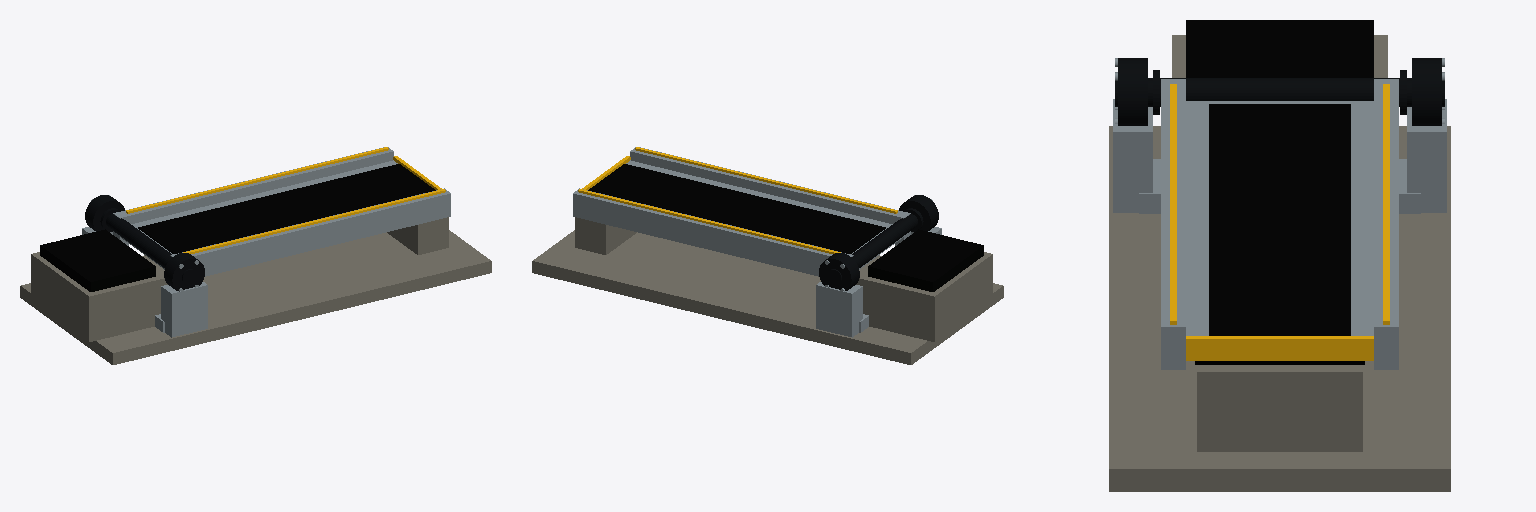
robot.urdf — singleleaf_drawbridge:
<robot name="singleleaf_drawbridge">
  <material name="galvanized_steel">
    <color rgba="0.56 0.6 0.62 1" />
    </material>
  <material name="dark_bearing_steel">
    <color rgba="0.08 0.09 0.1 1" />
    </material>
  <material name="precast_concrete">
    <color rgba="0.5 0.49 0.45 1" />
    </material>
  <material name="asphalt_wearing_surface">
    <color rgba="0.035 0.037 0.035 1" />
    </material>
  <material name="safety_yellow">
    <color rgba="0.95 0.72 0.08 1" />
    </material>
  <material name="black_rubber">
    <color rgba="0.015 0.014 0.013 1" />
    </material>
  <link name="support_frame">
    <visual name="base_slab">
      <origin xyz="1.7 0 0.09" rpy="0 0 0" />
      <geometry>
        <box size="5.8 2.45 0.18" />
        </geometry>
      <material name="precast_concrete">
        <color rgba="0.5 0.49 0.45 1" />
        </material>
      </visual>
    <visual name="shore_abutment">
      <origin xyz="-0.7 0 0.515" rpy="0 0 0" />
      <geometry>
        <box size="1.2 1.55 0.67" />
        </geometry>
      <material name="precast_concrete">
        <color rgba="0.5 0.49 0.45 1" />
        </material>
      </visual>
    <visual name="fixed_approach">
      <origin xyz="-0.72 0 0.92" rpy="0 0 0" />
      <geometry>
        <box size="1 1.34 0.16" />
        </geometry>
      <material name="asphalt_wearing_surface">
        <color rgba="0.035 0.037 0.035 1" />
        </material>
      </visual>
    <visual name="receiving_abutment">
      <origin xyz="4.08 0 0.495" rpy="0 0 0" />
      <geometry>
        <box size="0.48 1.18 0.63" />
        </geometry>
      <material name="precast_concrete">
        <color rgba="0.5 0.49 0.45 1" />
        </material>
      </visual>
    <visual name="rest_pad">
      <origin xyz="4.03 0 0.825" rpy="0 0 0" />
      <geometry>
        <box size="0.34 1.22 0.03" />
        </geometry>
      <material name="black_rubber">
        <color rgba="0.015 0.014 0.013 1" />
        </material>
      </visual>
    <visual name="bearing_cross_tie">
      <origin xyz="0 0 0.26" rpy="0 0 0" />
      <geometry>
        <box size="0.6 2.02 0.16" />
        </geometry>
      <material name="galvanized_steel">
        <color rgba="0.56 0.6 0.62 1" />
        </material>
      </visual>
    <visual name="bearing_pedestal_0">
      <origin xyz="0 1.05 0.5" rpy="0 0 0" />
      <geometry>
        <box size="0.56 0.28 0.64" />
        </geometry>
      <material name="galvanized_steel">
        <color rgba="0.56 0.6 0.62 1" />
        </material>
      </visual>
    <visual name="bearing_ring_0">
      <origin xyz="0 1.05 1" rpy="1.5708 0 0" />
      <geometry>
        <mesh filename="assets/meshes/hollow_side_bearing_ring.obj" />
        </geometry>
      <material name="dark_bearing_steel">
        <color rgba="0.08 0.09 0.1 1" />
        </material>
      </visual>
    <visual name="cap_bolt_0_n_b">
      <origin xyz="-0.12 1.17 0.82" rpy="1.5708 0 0" />
      <geometry>
        <cylinder radius="0.032" length="0.02" />
        </geometry>
      <material name="galvanized_steel">
        <color rgba="0.56 0.6 0.62 1" />
        </material>
      </visual>
    <visual name="cap_bolt_0_n_t">
      <origin xyz="-0.12 1.17 1.18" rpy="1.5708 0 0" />
      <geometry>
        <cylinder radius="0.032" length="0.02" />
        </geometry>
      <material name="galvanized_steel">
        <color rgba="0.56 0.6 0.62 1" />
        </material>
      </visual>
    <visual name="cap_bolt_0_p_b">
      <origin xyz="0.12 1.17 0.82" rpy="1.5708 0 0" />
      <geometry>
        <cylinder radius="0.032" length="0.02" />
        </geometry>
      <material name="galvanized_steel">
        <color rgba="0.56 0.6 0.62 1" />
        </material>
      </visual>
    <visual name="cap_bolt_0_p_t">
      <origin xyz="0.12 1.17 1.18" rpy="1.5708 0 0" />
      <geometry>
        <cylinder radius="0.032" length="0.02" />
        </geometry>
      <material name="galvanized_steel">
        <color rgba="0.56 0.6 0.62 1" />
        </material>
      </visual>
    <visual name="bearing_pedestal_1">
      <origin xyz="0 -1.05 0.5" rpy="0 0 0" />
      <geometry>
        <box size="0.56 0.28 0.64" />
        </geometry>
      <material name="galvanized_steel">
        <color rgba="0.56 0.6 0.62 1" />
        </material>
      </visual>
    <visual name="bearing_ring_1">
      <origin xyz="0 -1.05 1" rpy="1.5708 0 0" />
      <geometry>
        <mesh filename="assets/meshes/hollow_side_bearing_ring.obj" />
        </geometry>
      <material name="dark_bearing_steel">
        <color rgba="0.08 0.09 0.1 1" />
        </material>
      </visual>
    <visual name="cap_bolt_1_n_b">
      <origin xyz="-0.12 -1.17 0.82" rpy="1.5708 0 0" />
      <geometry>
        <cylinder radius="0.032" length="0.02" />
        </geometry>
      <material name="galvanized_steel">
        <color rgba="0.56 0.6 0.62 1" />
        </material>
      </visual>
    <visual name="cap_bolt_1_n_t">
      <origin xyz="-0.12 -1.17 1.18" rpy="1.5708 0 0" />
      <geometry>
        <cylinder radius="0.032" length="0.02" />
        </geometry>
      <material name="galvanized_steel">
        <color rgba="0.56 0.6 0.62 1" />
        </material>
      </visual>
    <visual name="cap_bolt_1_p_b">
      <origin xyz="0.12 -1.17 0.82" rpy="1.5708 0 0" />
      <geometry>
        <cylinder radius="0.032" length="0.02" />
        </geometry>
      <material name="galvanized_steel">
        <color rgba="0.56 0.6 0.62 1" />
        </material>
      </visual>
    <visual name="cap_bolt_1_p_t">
      <origin xyz="0.12 -1.17 1.18" rpy="1.5708 0 0" />
      <geometry>
        <cylinder radius="0.032" length="0.02" />
        </geometry>
      <material name="galvanized_steel">
        <color rgba="0.56 0.6 0.62 1" />
        </material>
      </visual>
    <collision name="base_slab">
      <origin xyz="1.7 0 0.09" rpy="0 0 0" />
      <geometry>
        <box size="5.8 2.45 0.18" />
        </geometry>
      </collision>
    <collision name="shore_abutment">
      <origin xyz="-0.7 0 0.515" rpy="0 0 0" />
      <geometry>
        <box size="1.2 1.55 0.67" />
        </geometry>
      </collision>
    <collision name="fixed_approach">
      <origin xyz="-0.72 0 0.92" rpy="0 0 0" />
      <geometry>
        <box size="1 1.34 0.16" />
        </geometry>
      </collision>
    <collision name="receiving_abutment">
      <origin xyz="4.08 0 0.495" rpy="0 0 0" />
      <geometry>
        <box size="0.48 1.18 0.63" />
        </geometry>
      </collision>
    <collision name="rest_pad">
      <origin xyz="4.03 0 0.825" rpy="0 0 0" />
      <geometry>
        <box size="0.34 1.22 0.03" />
        </geometry>
      </collision>
    <collision name="bearing_cross_tie">
      <origin xyz="0 0 0.26" rpy="0 0 0" />
      <geometry>
        <box size="0.6 2.02 0.16" />
        </geometry>
      </collision>
    <collision name="bearing_pedestal_0">
      <origin xyz="0 1.05 0.5" rpy="0 0 0" />
      <geometry>
        <box size="0.56 0.28 0.64" />
        </geometry>
      </collision>
    <collision name="bearing_ring_0">
      <origin xyz="0 1.05 1" rpy="1.5708 0 0" />
      <geometry>
        <mesh filename="assets/meshes/hollow_side_bearing_ring.obj" />
        </geometry>
      </collision>
    <collision name="cap_bolt_0_n_b">
      <origin xyz="-0.12 1.17 0.82" rpy="1.5708 0 0" />
      <geometry>
        <cylinder radius="0.032" length="0.02" />
        </geometry>
      </collision>
    <collision name="cap_bolt_0_n_t">
      <origin xyz="-0.12 1.17 1.18" rpy="1.5708 0 0" />
      <geometry>
        <cylinder radius="0.032" length="0.02" />
        </geometry>
      </collision>
    <collision name="cap_bolt_0_p_b">
      <origin xyz="0.12 1.17 0.82" rpy="1.5708 0 0" />
      <geometry>
        <cylinder radius="0.032" length="0.02" />
        </geometry>
      </collision>
    <collision name="cap_bolt_0_p_t">
      <origin xyz="0.12 1.17 1.18" rpy="1.5708 0 0" />
      <geometry>
        <cylinder radius="0.032" length="0.02" />
        </geometry>
      </collision>
    <collision name="bearing_pedestal_1">
      <origin xyz="0 -1.05 0.5" rpy="0 0 0" />
      <geometry>
        <box size="0.56 0.28 0.64" />
        </geometry>
      </collision>
    <collision name="bearing_ring_1">
      <origin xyz="0 -1.05 1" rpy="1.5708 0 0" />
      <geometry>
        <mesh filename="assets/meshes/hollow_side_bearing_ring.obj" />
        </geometry>
      </collision>
    <collision name="cap_bolt_1_n_b">
      <origin xyz="-0.12 -1.17 0.82" rpy="1.5708 0 0" />
      <geometry>
        <cylinder radius="0.032" length="0.02" />
        </geometry>
      </collision>
    <collision name="cap_bolt_1_n_t">
      <origin xyz="-0.12 -1.17 1.18" rpy="1.5708 0 0" />
      <geometry>
        <cylinder radius="0.032" length="0.02" />
        </geometry>
      </collision>
    <collision name="cap_bolt_1_p_b">
      <origin xyz="0.12 -1.17 0.82" rpy="1.5708 0 0" />
      <geometry>
        <cylinder radius="0.032" length="0.02" />
        </geometry>
      </collision>
    <collision name="cap_bolt_1_p_t">
      <origin xyz="0.12 -1.17 1.18" rpy="1.5708 0 0" />
      <geometry>
        <cylinder radius="0.032" length="0.02" />
        </geometry>
      </collision>
    </link>
  <link name="bridge_leaf">
    <visual name="trunnion_shaft">
      <origin xyz="0 0 0" rpy="1.5708 0 0" />
      <geometry>
        <cylinder radius="0.105" length="2.36" />
        </geometry>
      <material name="dark_bearing_steel">
        <color rgba="0.08 0.09 0.1 1" />
        </material>
      </visual>
    <visual name="trunnion_collar_0">
      <origin xyz="0 0.88 0" rpy="1.5708 0 0" />
      <geometry>
        <cylinder radius="0.16" length="0.05" />
        </geometry>
      <material name="dark_bearing_steel">
        <color rgba="0.08 0.09 0.1 1" />
        </material>
      </visual>
    <visual name="trunnion_collar_1">
      <origin xyz="0 -0.88 0" rpy="1.5708 0 0" />
      <geometry>
        <cylinder radius="0.16" length="0.05" />
        </geometry>
      <material name="dark_bearing_steel">
        <color rgba="0.08 0.09 0.1 1" />
        </material>
      </visual>
    <visual name="deck_pan">
      <origin xyz="2.1 0 -0.09" rpy="0 0 0" />
      <geometry>
        <box size="4.2 1.4 0.14" />
        </geometry>
      <material name="galvanized_steel">
        <color rgba="0.56 0.6 0.62 1" />
        </material>
      </visual>
    <visual name="road_surface">
      <origin xyz="2.2 0 -0.011" rpy="0 0 0" />
      <geometry>
        <box size="4.02 1.02 0.018" />
        </geometry>
      <material name="asphalt_wearing_surface">
        <color rgba="0.035 0.037 0.035 1" />
        </material>
      </visual>
    <visual name="side_girder_0">
      <origin xyz="2.1 0.76 -0.06" rpy="0 0 0" />
      <geometry>
        <box size="4.2 0.18 0.34" />
        </geometry>
      <material name="galvanized_steel">
        <color rgba="0.56 0.6 0.62 1" />
        </material>
      </visual>
    <visual name="curb_stripe_0">
      <origin xyz="2.16 0.76 0.123" rpy="0 0 0" />
      <geometry>
        <box size="4 0.05 0.035" />
        </geometry>
      <material name="safety_yellow">
        <color rgba="0.95 0.72 0.08 1" />
        </material>
      </visual>
    <visual name="side_girder_1">
      <origin xyz="2.1 -0.76 -0.06" rpy="0 0 0" />
      <geometry>
        <box size="4.2 0.18 0.34" />
        </geometry>
      <material name="galvanized_steel">
        <color rgba="0.56 0.6 0.62 1" />
        </material>
      </visual>
    <visual name="curb_stripe_1">
      <origin xyz="2.16 -0.76 0.123" rpy="0 0 0" />
      <geometry>
        <box size="4 0.05 0.035" />
        </geometry>
      <material name="safety_yellow">
        <color rgba="0.95 0.72 0.08 1" />
        </material>
      </visual>
    <visual name="stamped_rib_0">
      <origin xyz="0.62 0 -0.2" rpy="0 0 0" />
      <geometry>
        <box size="0.11 1.42 0.1" />
        </geometry>
      <material name="galvanized_steel">
        <color rgba="0.56 0.6 0.62 1" />
        </material>
      </visual>
    <visual name="stamped_rib_1">
      <origin xyz="1.8 0 -0.2" rpy="0 0 0" />
      <geometry>
        <box size="0.11 1.42 0.1" />
        </geometry>
      <material name="galvanized_steel">
        <color rgba="0.56 0.6 0.62 1" />
        </material>
      </visual>
    <visual name="stamped_rib_2">
      <origin xyz="2.98 0 -0.2" rpy="0 0 0" />
      <geometry>
        <box size="0.11 1.42 0.1" />
        </geometry>
      <material name="galvanized_steel">
        <color rgba="0.56 0.6 0.62 1" />
        </material>
      </visual>
    <visual name="stamped_rib_3">
      <origin xyz="3.78 0 -0.2" rpy="0 0 0" />
      <geometry>
        <box size="0.11 1.42 0.1" />
        </geometry>
      <material name="galvanized_steel">
        <color rgba="0.56 0.6 0.62 1" />
        </material>
      </visual>
    <visual name="nose_marker">
      <origin xyz="4.22 0 -0.05" rpy="0 0 0" />
      <geometry>
        <box size="0.055 1.34 0.17" />
        </geometry>
      <material name="safety_yellow">
        <color rgba="0.95 0.72 0.08 1" />
        </material>
      </visual>
    <collision name="trunnion_shaft">
      <origin xyz="0 0 0" rpy="1.5708 0 0" />
      <geometry>
        <cylinder radius="0.105" length="2.36" />
        </geometry>
      </collision>
    <collision name="trunnion_collar_0">
      <origin xyz="0 0.88 0" rpy="1.5708 0 0" />
      <geometry>
        <cylinder radius="0.16" length="0.05" />
        </geometry>
      </collision>
    <collision name="trunnion_collar_1">
      <origin xyz="0 -0.88 0" rpy="1.5708 0 0" />
      <geometry>
        <cylinder radius="0.16" length="0.05" />
        </geometry>
      </collision>
    <collision name="deck_pan">
      <origin xyz="2.1 0 -0.09" rpy="0 0 0" />
      <geometry>
        <box size="4.2 1.4 0.14" />
        </geometry>
      </collision>
    <collision name="road_surface">
      <origin xyz="2.2 0 -0.011" rpy="0 0 0" />
      <geometry>
        <box size="4.02 1.02 0.018" />
        </geometry>
      </collision>
    <collision name="side_girder_0">
      <origin xyz="2.1 0.76 -0.06" rpy="0 0 0" />
      <geometry>
        <box size="4.2 0.18 0.34" />
        </geometry>
      </collision>
    <collision name="curb_stripe_0">
      <origin xyz="2.16 0.76 0.123" rpy="0 0 0" />
      <geometry>
        <box size="4 0.05 0.035" />
        </geometry>
      </collision>
    <collision name="side_girder_1">
      <origin xyz="2.1 -0.76 -0.06" rpy="0 0 0" />
      <geometry>
        <box size="4.2 0.18 0.34" />
        </geometry>
      </collision>
    <collision name="curb_stripe_1">
      <origin xyz="2.16 -0.76 0.123" rpy="0 0 0" />
      <geometry>
        <box size="4 0.05 0.035" />
        </geometry>
      </collision>
    <collision name="stamped_rib_0">
      <origin xyz="0.62 0 -0.2" rpy="0 0 0" />
      <geometry>
        <box size="0.11 1.42 0.1" />
        </geometry>
      </collision>
    <collision name="stamped_rib_1">
      <origin xyz="1.8 0 -0.2" rpy="0 0 0" />
      <geometry>
        <box size="0.11 1.42 0.1" />
        </geometry>
      </collision>
    <collision name="stamped_rib_2">
      <origin xyz="2.98 0 -0.2" rpy="0 0 0" />
      <geometry>
        <box size="0.11 1.42 0.1" />
        </geometry>
      </collision>
    <collision name="stamped_rib_3">
      <origin xyz="3.78 0 -0.2" rpy="0 0 0" />
      <geometry>
        <box size="0.11 1.42 0.1" />
        </geometry>
      </collision>
    <collision name="nose_marker">
      <origin xyz="4.22 0 -0.05" rpy="0 0 0" />
      <geometry>
        <box size="0.055 1.34 0.17" />
        </geometry>
      </collision>
    </link>
  <joint name="leaf_pivot" type="revolute">
    <origin xyz="0 0 1" rpy="0 0 0" />
    <parent link="support_frame" />
    <child link="bridge_leaf" />
    <axis xyz="0 -1 0" />
    <limit effort="85000" velocity="0.35" lower="0" upper="1.25" />
    </joint>
  </robot>

--- Facts derived from the render (not from the file) ---
The picture shows the robot from 3 angles, left to right: view 1: azimuth 30°, elevation 25°; view 2: azimuth 150°, elevation 25°; view 3: azimuth 270°, elevation 25°; orthographic projection.
Robot: singleleaf_drawbridge — 2 links, 1 joints (1 revolute); root link support_frame; default pose: all joints at 0.
Links seen in each view (by area): view 1: support_frame, bridge_leaf; view 2: support_frame, bridge_leaf; view 3: support_frame, bridge_leaf.
Link boxes in pixels (x1,y1,x2,y2): support_frame: (20,195,491,364); bridge_leaf: (100,147,450,283); support_frame: (532,195,1003,364); bridge_leaf: (573,147,923,283); support_frame: (1109,20,1450,491); bridge_leaf: (1115,70,1444,369).
Size in the robot's own frame: 5.9 by 2.45 by 1.25 metres.
Meshes: 1 distinct files referenced, 2 mesh visuals loaded (1 OBJ).
